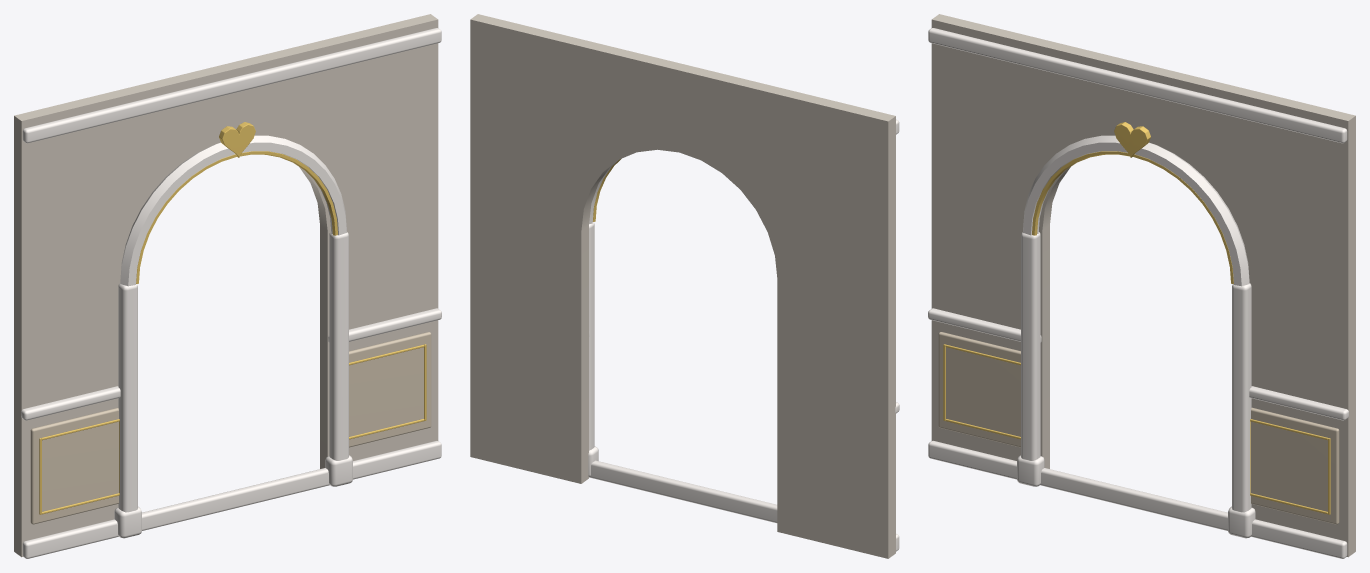
File: wall_arch_door.glb
3 renders of one model, left to right at view 1: azimuth 30°, elevation 25°; view 2: azimuth 150°, elevation 25°; view 3: azimuth 330°, elevation 25°, orthographic.
Parts seen in each view (by area): view 1: wall_arch_door; view 2: wall_arch_door; view 3: wall_arch_door.
Part boxes in pixels (x1,y1,x2,y2): wall_arch_door: [14, 14, 441, 558]; wall_arch_door: [470, 14, 899, 558]; wall_arch_door: [928, 14, 1355, 558].
Bounding box in the file's own units: 3.21 × 3.2 × 0.225.
